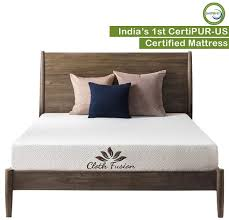bed-matress: (9, 111, 217, 171)
